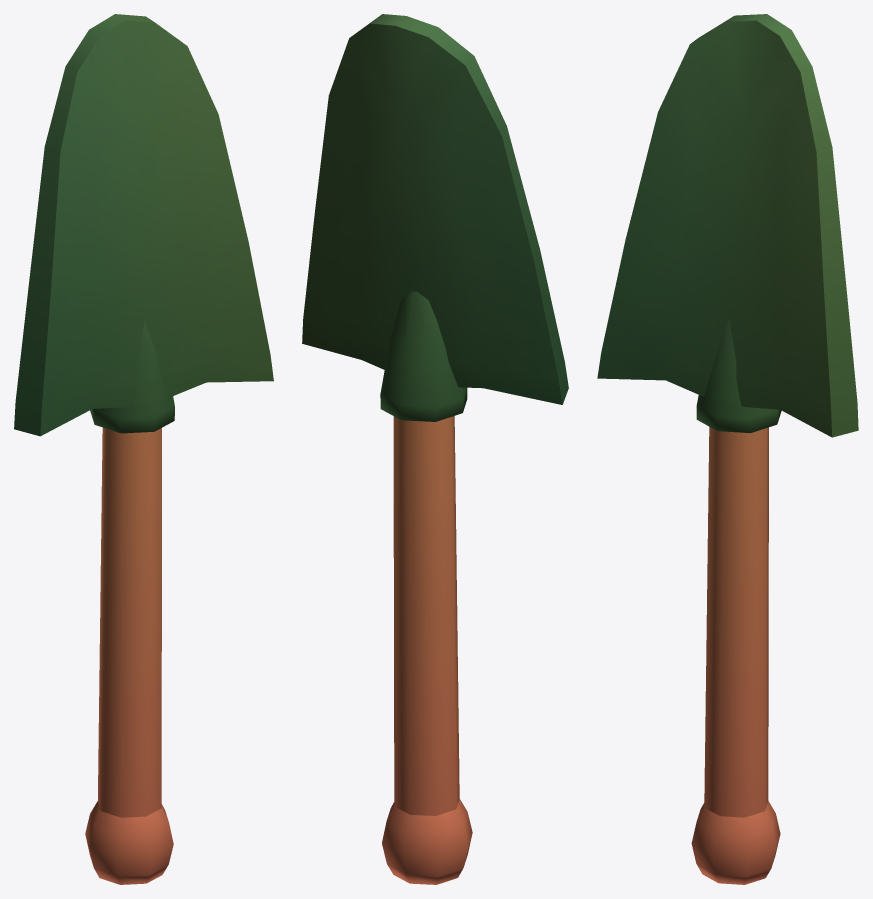
Rendered from Shovel.fbx.
3 renders of one model, left to right at view 1: azimuth 30°, elevation 25°; view 2: azimuth 150°, elevation 25°; view 3: azimuth 330°, elevation 25°, orthographic. The views are drawn at different scales.
Visible parts, largest first — view 1: Shovel; view 2: Shovel; view 3: Shovel.
Boxes of the visible parts, box(x1,y1,x2,y2) form: Shovel: box(14, 14, 273, 884); Shovel: box(302, 14, 568, 884); Shovel: box(597, 14, 858, 884).
Bounding box in the file's own units: 26.28 × 8.5 × 83.09.
